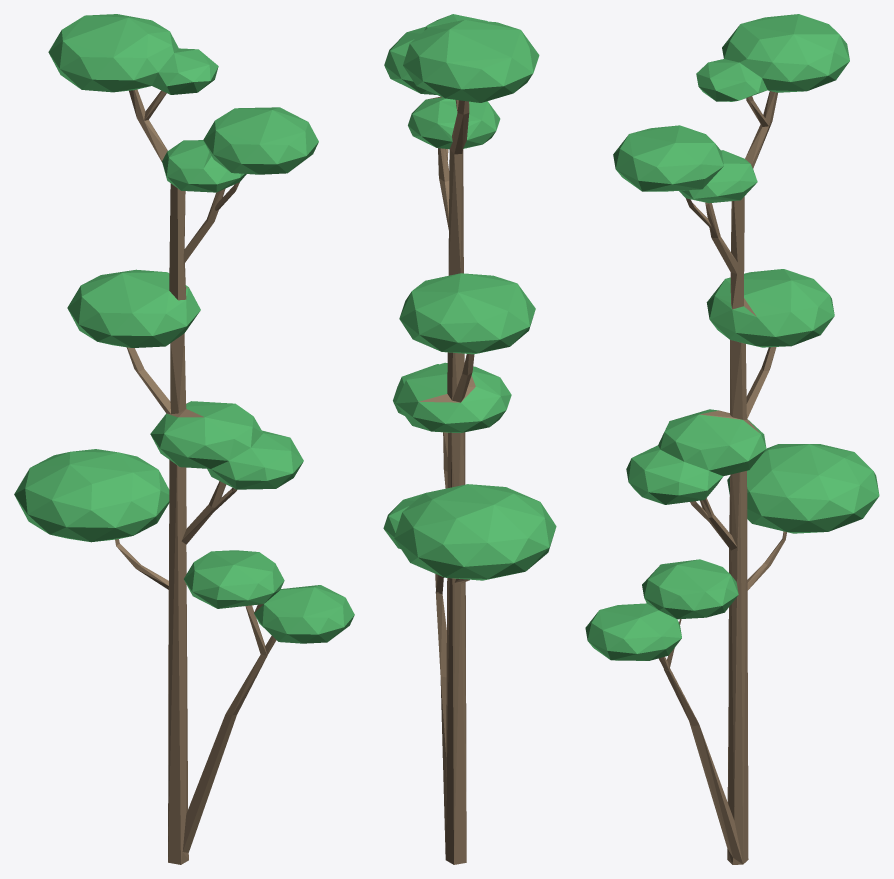
The model's file is tree35.fbx.
3 renders of one model, left to right at view 1: azimuth 30°, elevation 25°; view 2: azimuth 150°, elevation 25°; view 3: azimuth 270°, elevation 25°, orthographic. The views are drawn at different scales.
Visible parts, largest first — view 1: treetype35; view 2: treetype35; view 3: treetype35.
Boxes of the visible parts, x1,y1,x2,y2 form: treetype35: (14,14,354,864); treetype35: (383,14,556,864); treetype35: (585,14,879,864).
Size of the model in its own units: 73.59 by 245 by 80.08.
